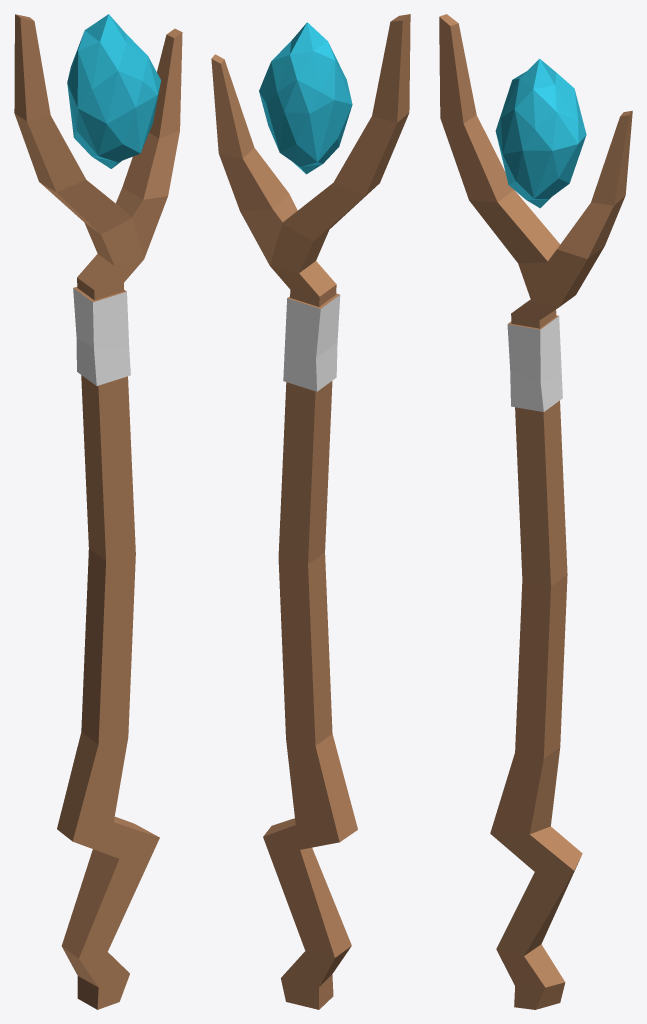
File: cajadaodemadeira.fbx
3 renders of one model, left to right at view 1: azimuth 30°, elevation 25°; view 2: azimuth 150°, elevation 25°; view 3: azimuth 330°, elevation 25°, orthographic. The views are drawn at different scales.
Parts seen in each view (by area): view 1: Cube; view 2: Cube; view 3: Cube.
Boxes of the visible parts, left/top/right/bottom form: Cube: left=14, top=14, right=182, bottom=1009; Cube: left=211, top=14, right=410, bottom=1009; Cube: left=439, top=14, right=632, bottom=1009.
Bounding box in the file's own units: 1378 × 7413 × 584.
